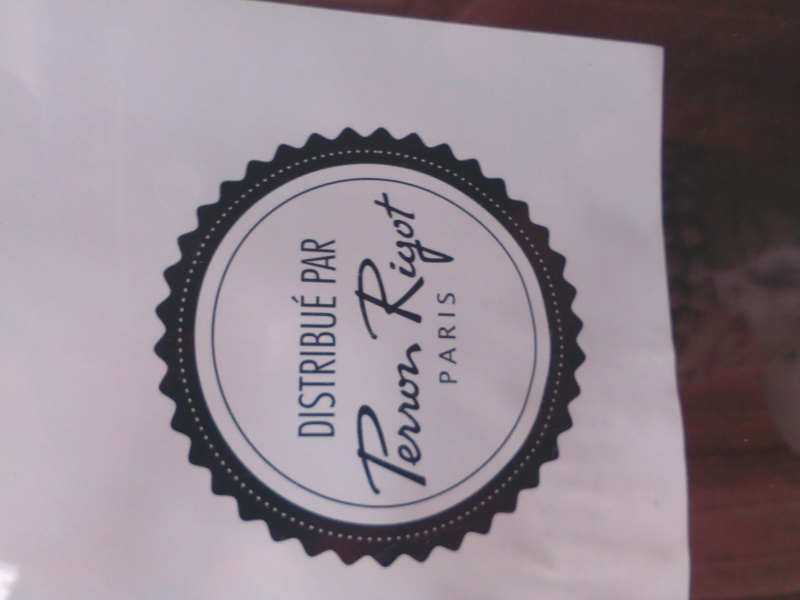text: (385, 189, 400, 351), (401, 189, 416, 351), (417, 189, 432, 351), (433, 189, 448, 351), (449, 189, 464, 351), (369, 341, 384, 499), (385, 341, 400, 499), (401, 341, 416, 499), (465, 189, 479, 351), (417, 341, 431, 499), (289, 295, 304, 438), (305, 295, 320, 438), (321, 295, 336, 438), (371, 189, 384, 351), (436, 291, 448, 384), (361, 341, 368, 499), (449, 291, 459, 384), (305, 236, 320, 284), (321, 236, 336, 284), (299, 236, 304, 284), (337, 295, 338, 438), (337, 236, 338, 284)
